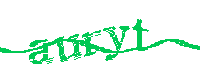a: (28, 40, 53, 67)
r: (81, 25, 101, 56)
t: (132, 17, 152, 51)
u: (55, 31, 81, 66)
y: (102, 24, 129, 63)
